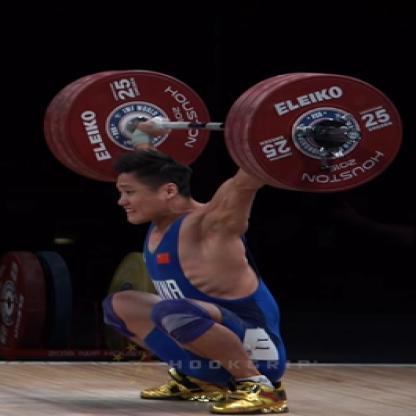barbell: (44, 70, 401, 195)
